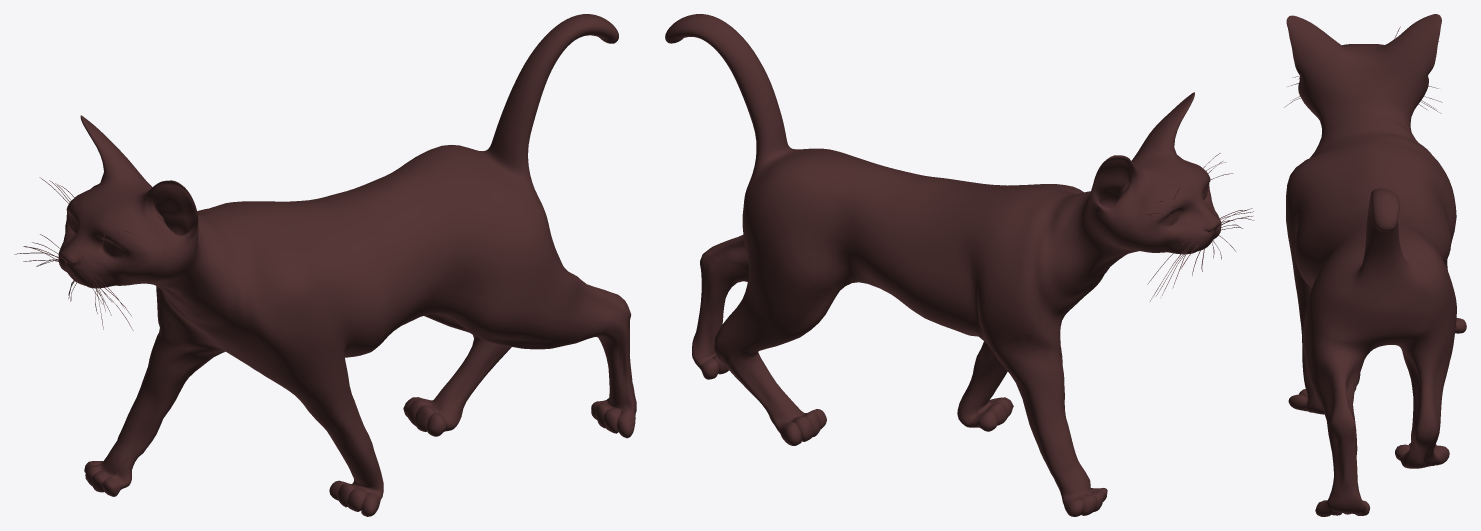
Rendered from cat.FBX.
3 views of the same model, side by side, from view 1: azimuth 30°, elevation 25°; view 2: azimuth 150°, elevation 25°; view 3: azimuth 270°, elevation 25° (orthographic). The views are drawn at different scales.
Visible parts, largest first — view 1: cat; view 2: cat; view 3: cat.
Boxes of the visible parts, box(x1,y1,x2,y2) form: cat: box(14, 14, 636, 516); cat: box(665, 14, 1254, 516); cat: box(1284, 14, 1466, 516).
Bounding box in the file's own units: 59.37 × 39.46 × 20.39.
